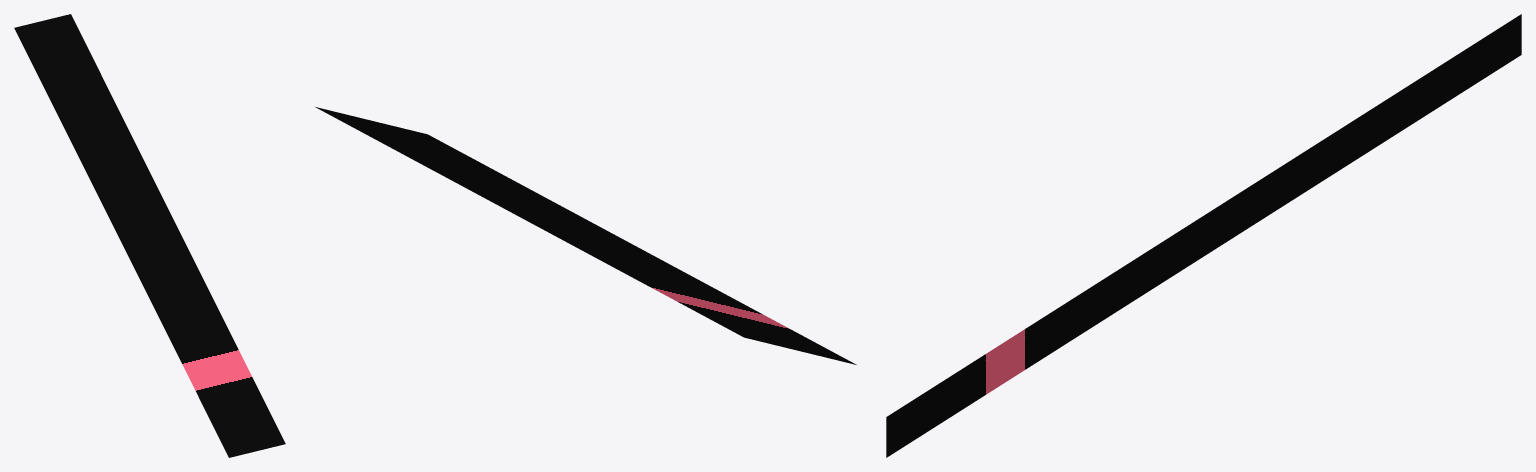
File: fuel_gauge.gltf
3 renders of one model, left to right at view 1: azimuth 30°, elevation 25°; view 2: azimuth 150°, elevation 25°; view 3: azimuth 270°, elevation 25°, orthographic. The views are drawn at different scales.
Parts seen in each view (by area): view 1: fuel_gauge; view 2: fuel_gauge; view 3: fuel_gauge.
Boxes of the visible parts, x1=… form: fuel_gauge: x1=14, y1=14, x2=285, y2=457; fuel_gauge: x1=315, y1=107, x2=856, y2=364; fuel_gauge: x1=886, y1=14, x2=1521, y2=457.
Size of the model in its own units: 0.0625 by 0.2868 by 0.4096.
Materials: 1 (1 with a texture image).
